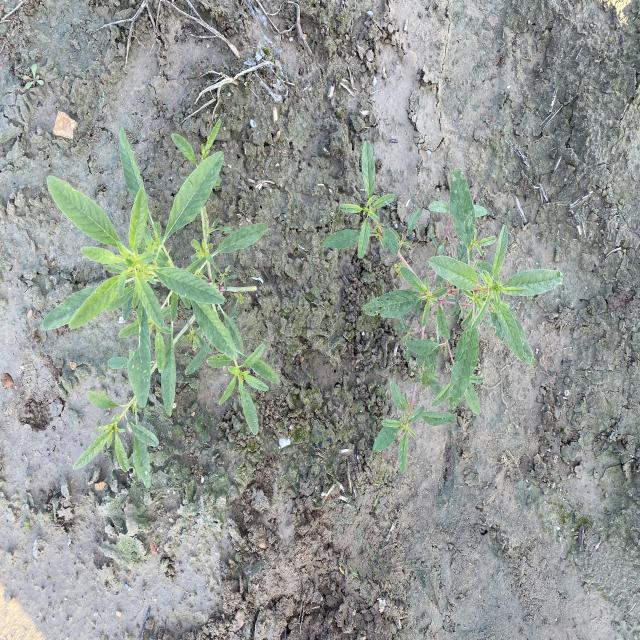Waterhemp: (39, 117, 282, 489), (319, 128, 565, 477)
